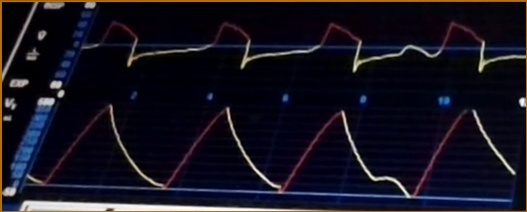Ineffective_effort Flow: (82, 16, 525, 77)
Ineffective_effort Volume: (26, 103, 514, 198)
